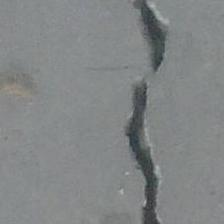Crack: (55, 1, 223, 224)
